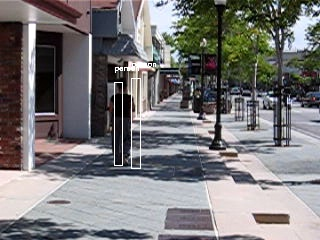person: (109, 79, 136, 169), (108, 79, 135, 169), (110, 79, 137, 169), (109, 78, 136, 168), (109, 80, 136, 170)
target_negative: (239, 18, 318, 177), (70, 177, 253, 210), (194, 30, 267, 78), (176, 61, 210, 102), (23, 209, 159, 213), (13, 210, 14, 234)
